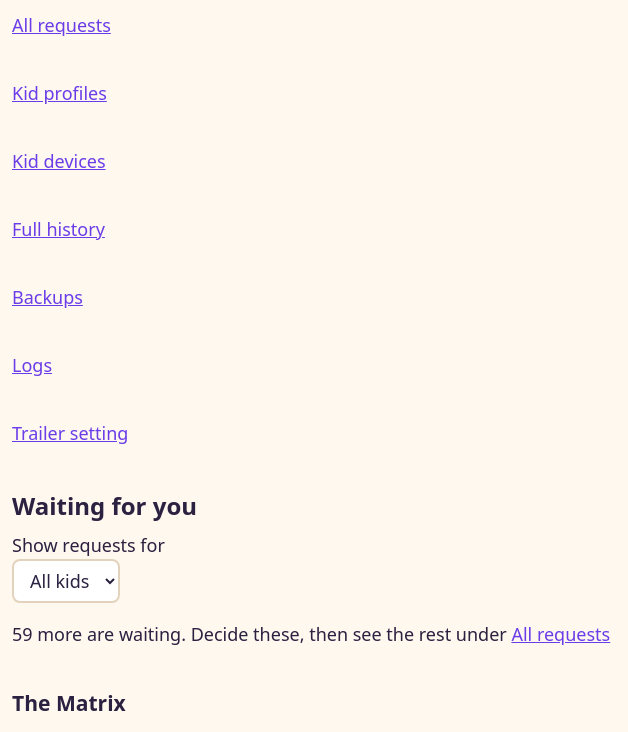
Test: asks the server for a kid whose requests are not on the first page
Expected: the text "59 more are waiting" is shown, [12,622,507,646]
Select "Bea" in the dropdown labelled "Show requests for" at [66, 581], box [12,559,120,603]
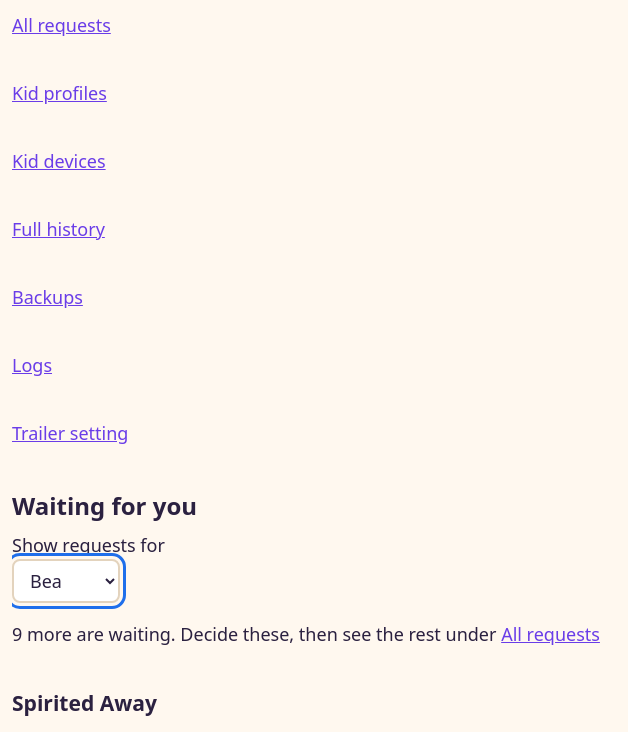
Expected: the text "9 more are waiting" is shown, [12,622,496,646]
Select "All kids" in the dropdown labelled "Show requests for" at [66, 581], box [12,559,120,603]
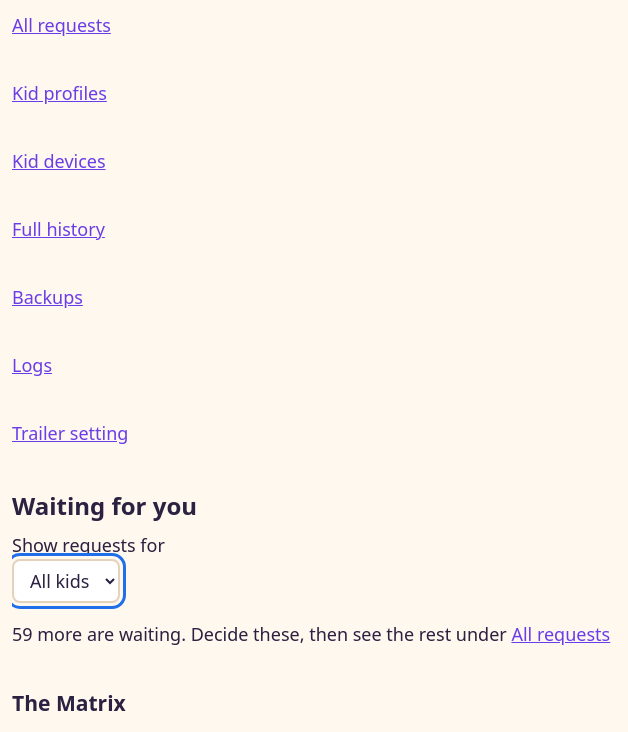
Expected: the text "59 more are waiting" is shown, [12,622,507,646]
